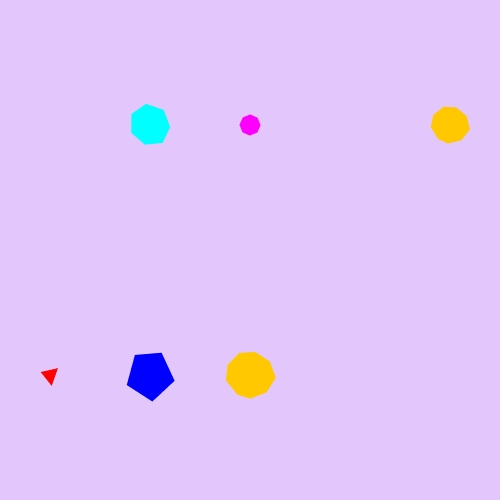heptagon: (126, 102, 175, 149)
nonagon: (222, 348, 278, 402), (427, 103, 473, 147)
octagon: (235, 110, 265, 140)
pentagon: (123, 348, 178, 403)
triangle: (38, 362, 63, 388)
